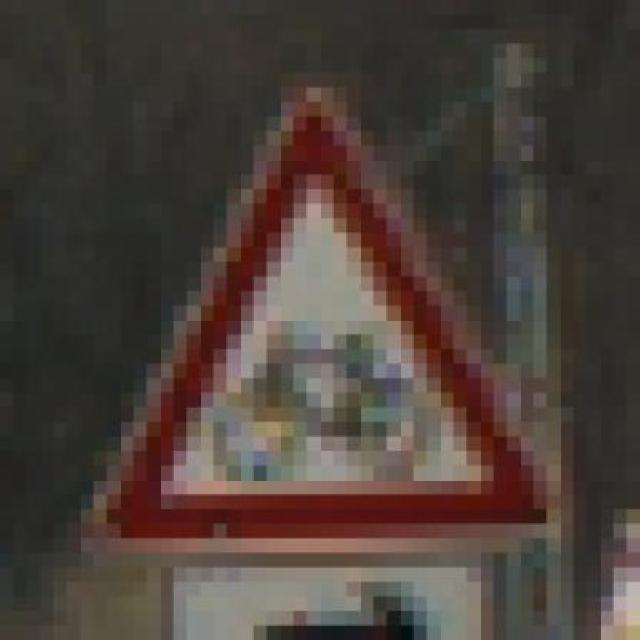CYCLE ROUTE AHEAD WARNING: (53, 59, 573, 538)
